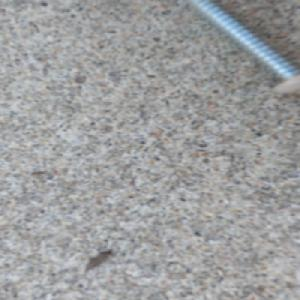Screw: (186, 0, 300, 96)
